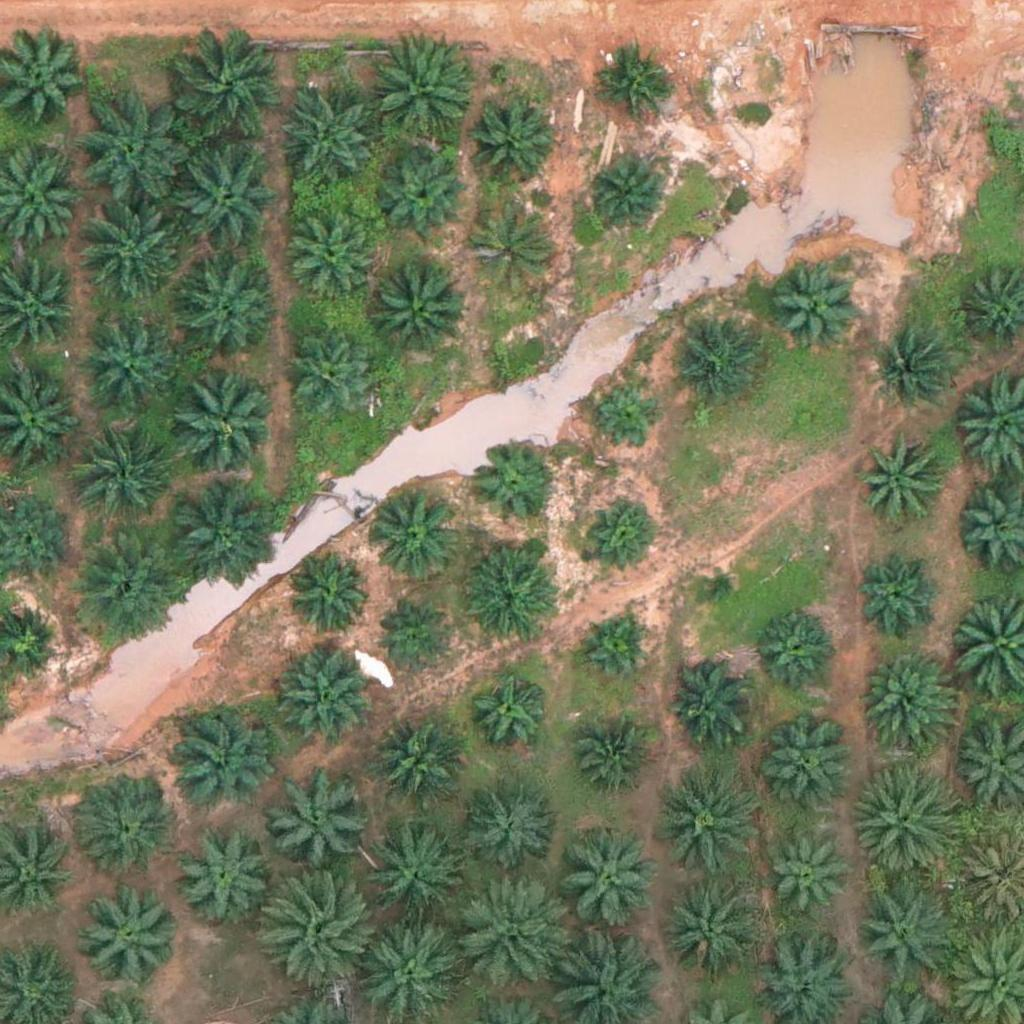Kelapa_Sawit: (168, 247, 281, 361), (364, 34, 477, 148), (452, 874, 565, 988), (74, 94, 187, 207), (71, 538, 184, 651), (172, 142, 285, 255), (160, 359, 273, 472), (77, 198, 189, 311), (65, 419, 177, 532), (171, 30, 283, 143), (164, 482, 276, 595), (852, 765, 964, 878), (262, 873, 374, 986), (282, 83, 382, 184), (456, 552, 556, 653), (858, 651, 958, 752), (759, 719, 859, 820), (557, 832, 657, 933), (269, 769, 369, 870), (167, 708, 267, 809), (75, 773, 175, 874), (856, 886, 956, 987), (80, 883, 180, 984), (76, 311, 176, 411), (364, 254, 464, 354), (668, 317, 768, 417), (657, 774, 757, 874), (272, 655, 372, 755), (171, 824, 271, 924), (660, 878, 760, 978), (460, 775, 560, 875), (367, 830, 467, 930), (592, 38, 680, 126), (465, 207, 553, 295), (286, 209, 374, 297), (289, 329, 377, 417), (379, 148, 467, 236), (469, 96, 557, 184), (855, 552, 943, 640), (762, 839, 850, 927), (668, 657, 756, 745), (861, 436, 948, 525), (587, 154, 674, 242), (874, 327, 961, 415), (767, 257, 854, 345), (473, 440, 560, 528), (372, 720, 459, 808), (568, 721, 655, 809), (752, 598, 839, 686), (367, 489, 454, 577), (285, 552, 372, 640), (470, 674, 545, 750), (576, 614, 651, 690), (582, 497, 657, 573), (593, 377, 668, 453), (380, 605, 455, 680), (693, 558, 743, 608)
